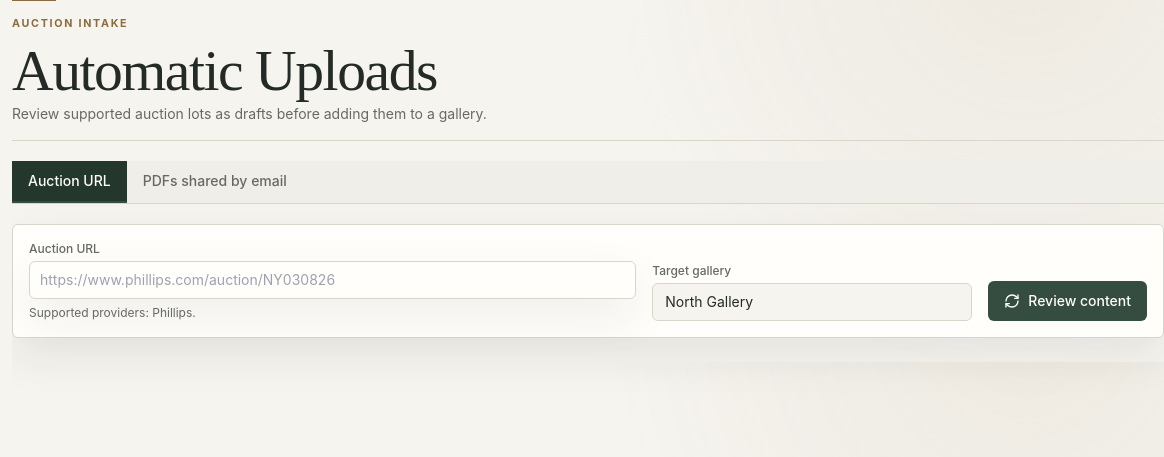
Scenario: AutomaticUploadsPage › identifies supported and unsupported auction provider domains
Expected: the text "Supported providers: Phillips." is shown, [29,305,196,320]
Expected: the button "Review content" is disabled, [988,281,1147,321]
Type "https://www.sothebys.com/en/buy/auction/2026/example" into the field labelled "Auction URL" at [333, 280], box [29,261,636,299]
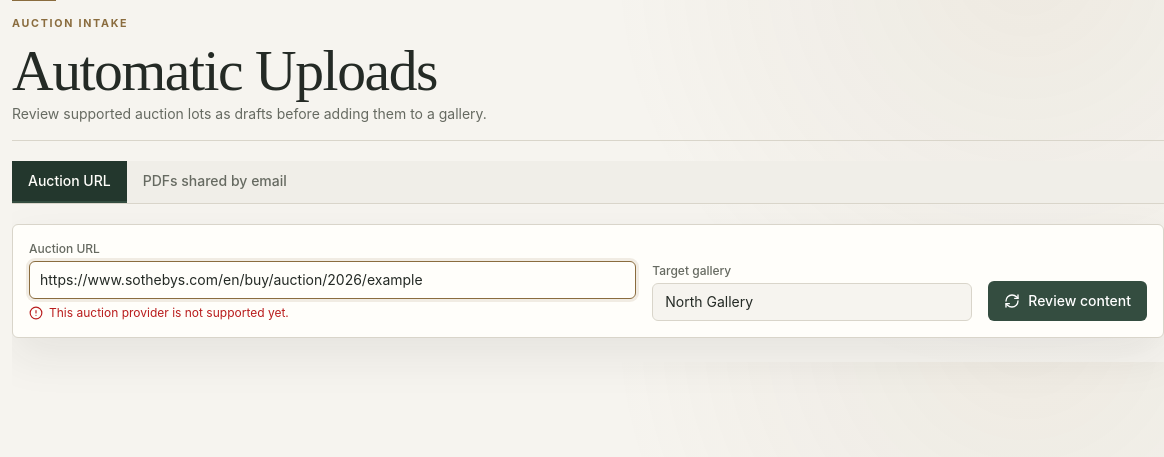
Expected: the button "Review content" is disabled, [988,281,1147,321]
Now the text "This auction provider is not supported yet." is shown, box [29,305,289,320]
Replace the text in the field labelled "Auction URL" with "https://www.phillips.com/about" at [333, 280], box [29,261,636,299]
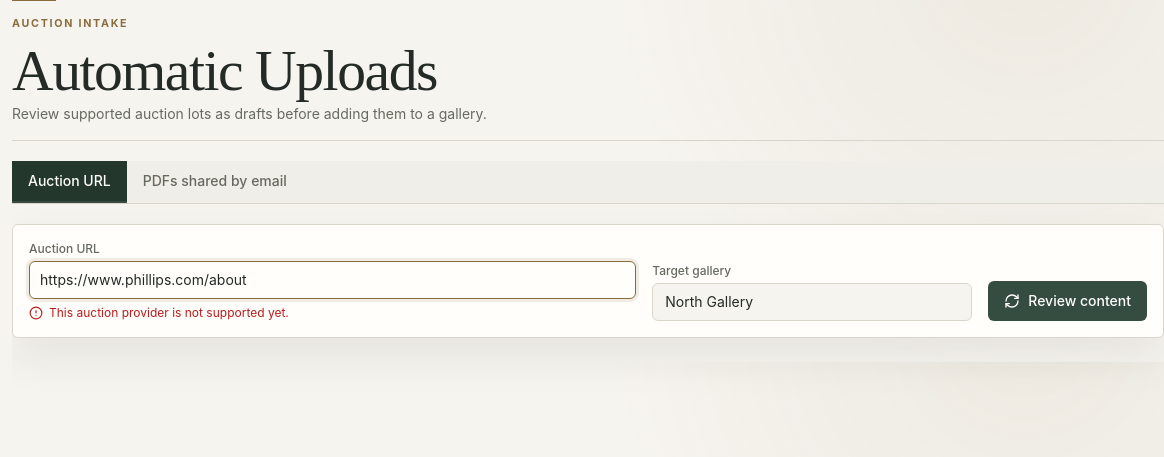
Expected: the text "This auction provider is not supported yet." is shown, [29,305,289,320]
Expected: the button "Review content" is disabled, [988,281,1147,321]
Replace the text in the field labelled "Auction URL" with "https://www.phillips.com/auction/NY030826" at [333, 280], box [29,261,636,299]
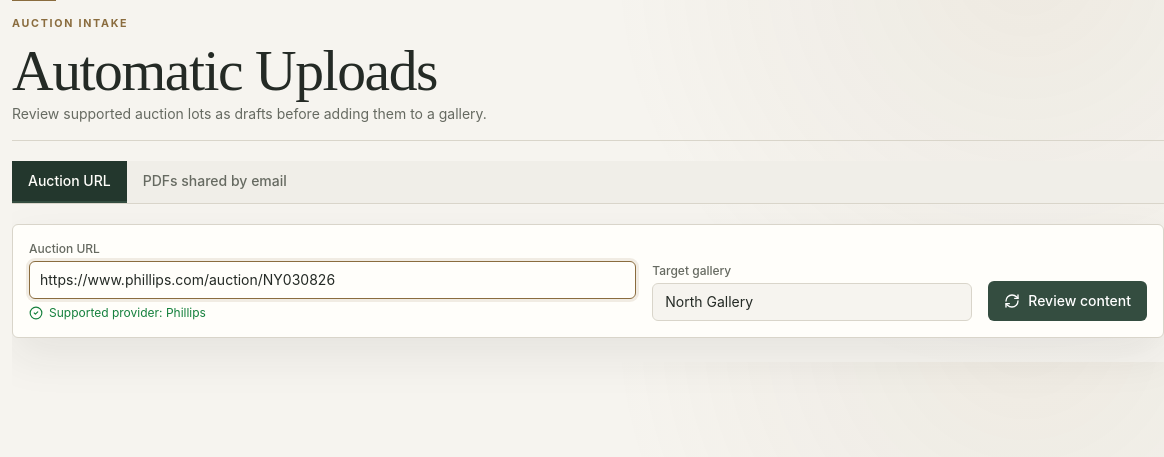
Expected: the button "Review content" is enabled, [988,281,1147,321]
Now the text "Supported provider: Phillips" is shown, box [29,305,206,320]
